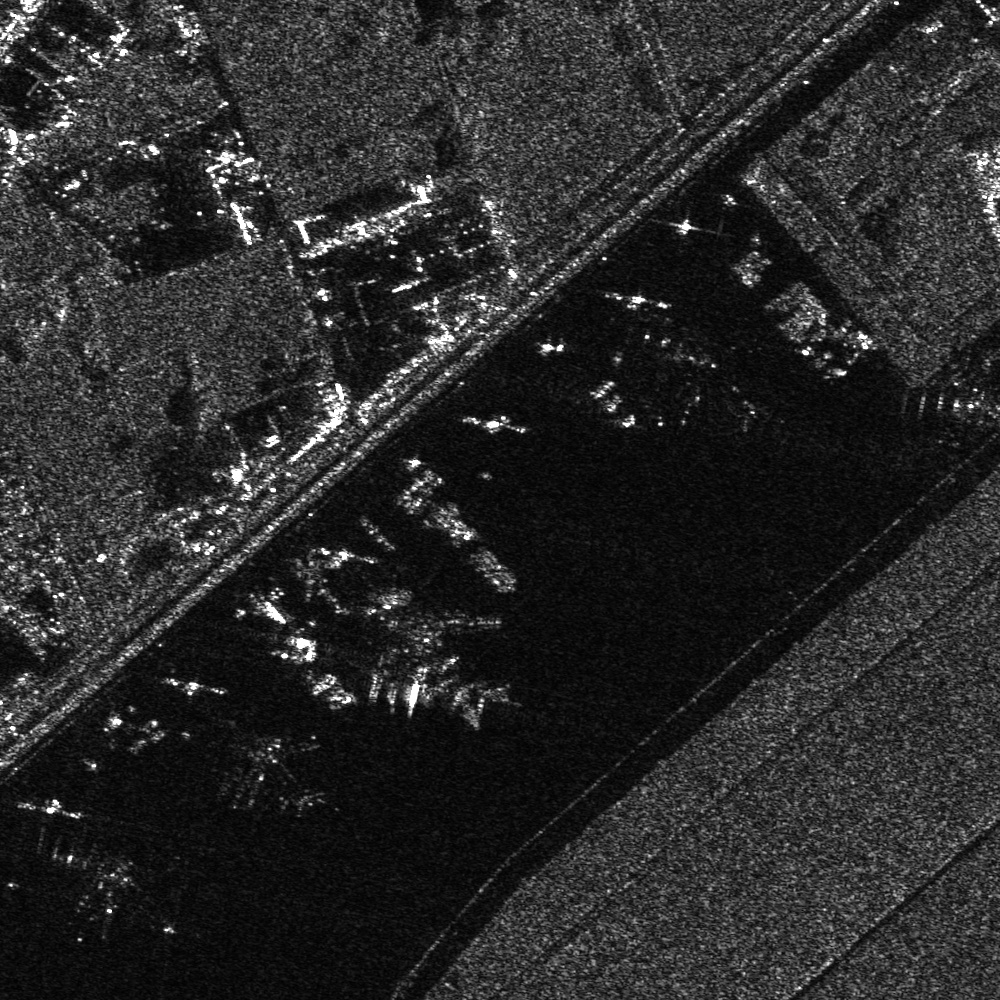Boeing737: (231, 730, 329, 822)
other: (367, 606, 524, 732), (39, 849, 182, 951), (664, 332, 772, 441)
